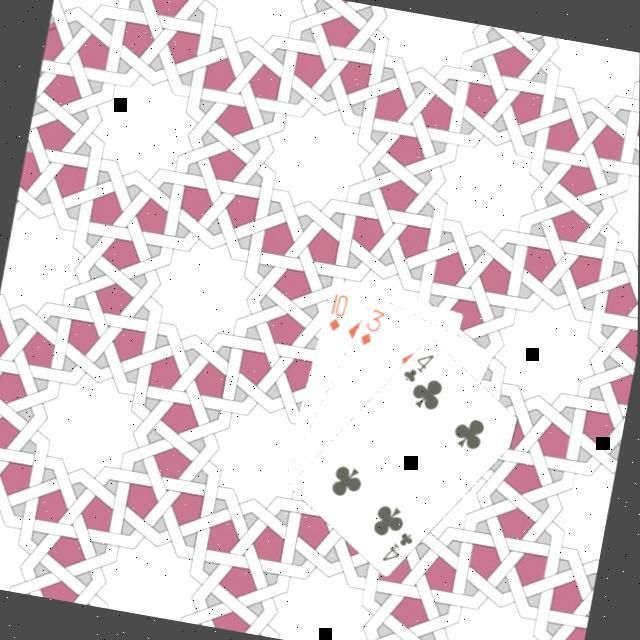10D: (322, 286, 350, 333)
3D: (353, 300, 388, 348)
4C: (396, 344, 436, 386), (376, 524, 416, 566)
